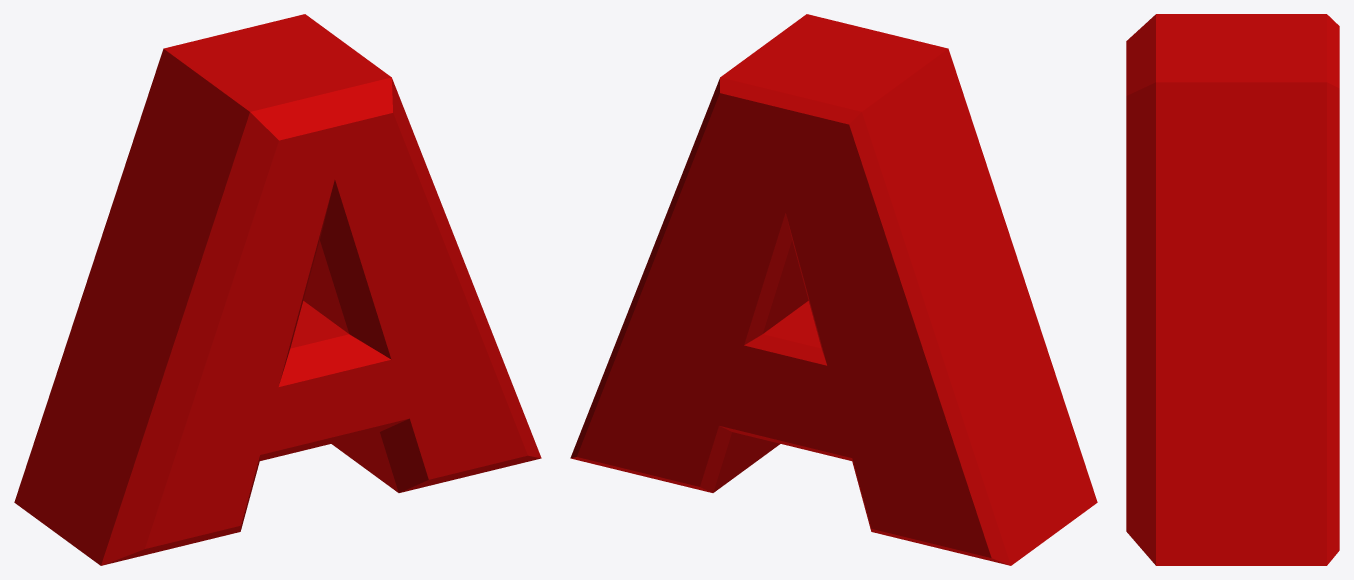
The model's file is letter_A.FBX.
3 views of the same model, side by side, from view 1: azimuth 30°, elevation 25°; view 2: azimuth 150°, elevation 25°; view 3: azimuth 270°, elevation 25° (orthographic).
Parts seen in each view (by area): view 1: Text001; view 2: Text001; view 3: Text001.
Boxes of the visible parts, x1=… form: Text001: x1=14, y1=14, x2=541, y2=565; Text001: x1=570, y1=14, x2=1097, y2=565; Text001: x1=1126, y1=14, x2=1339, y2=565.
Bounding box in the file's own units: 176 × 160 × 75.
